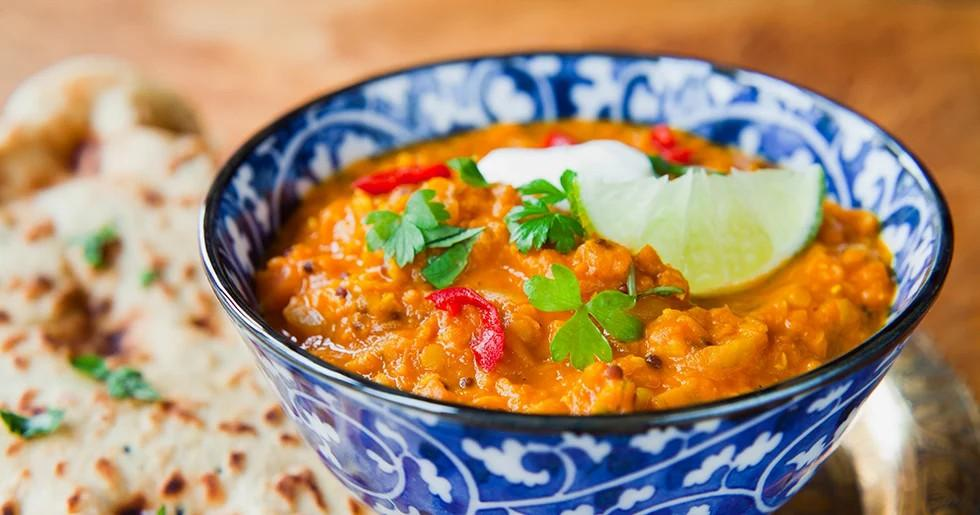Dal: (250, 123, 892, 412)
